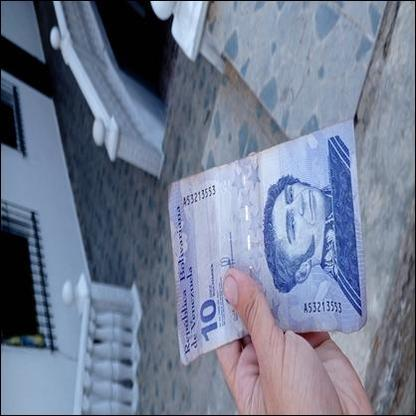ten-front-vef: (166, 119, 366, 364)
